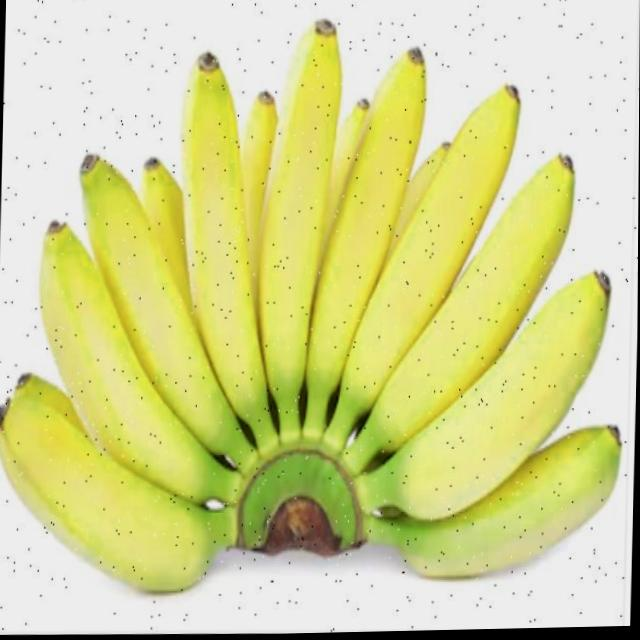Banana: (0, 7, 631, 604)
